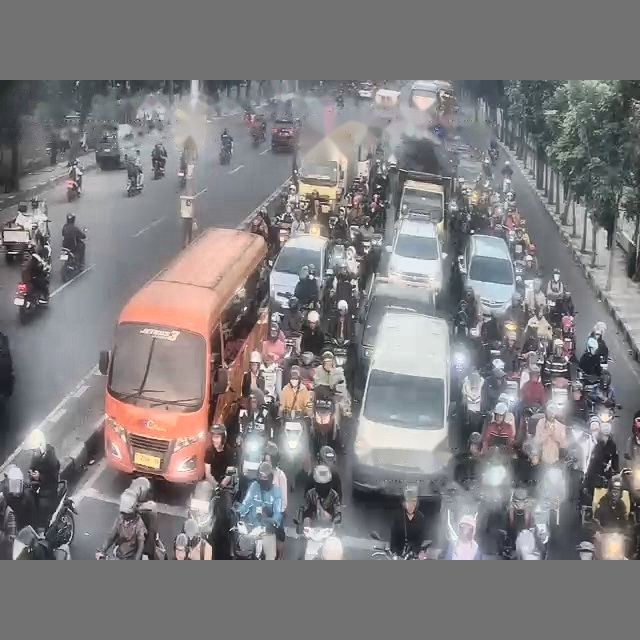Mobil: (352, 311, 452, 496), (356, 275, 434, 388), (385, 215, 446, 301), (457, 234, 515, 317), (269, 234, 329, 310), (271, 119, 298, 151), (357, 82, 375, 99)
Motor: (280, 412, 307, 490), (14, 282, 48, 323), (60, 247, 84, 282), (372, 546, 419, 559), (65, 178, 80, 201), (126, 176, 142, 196), (219, 143, 232, 164), (153, 159, 164, 179)
Truk: (298, 120, 375, 213)
